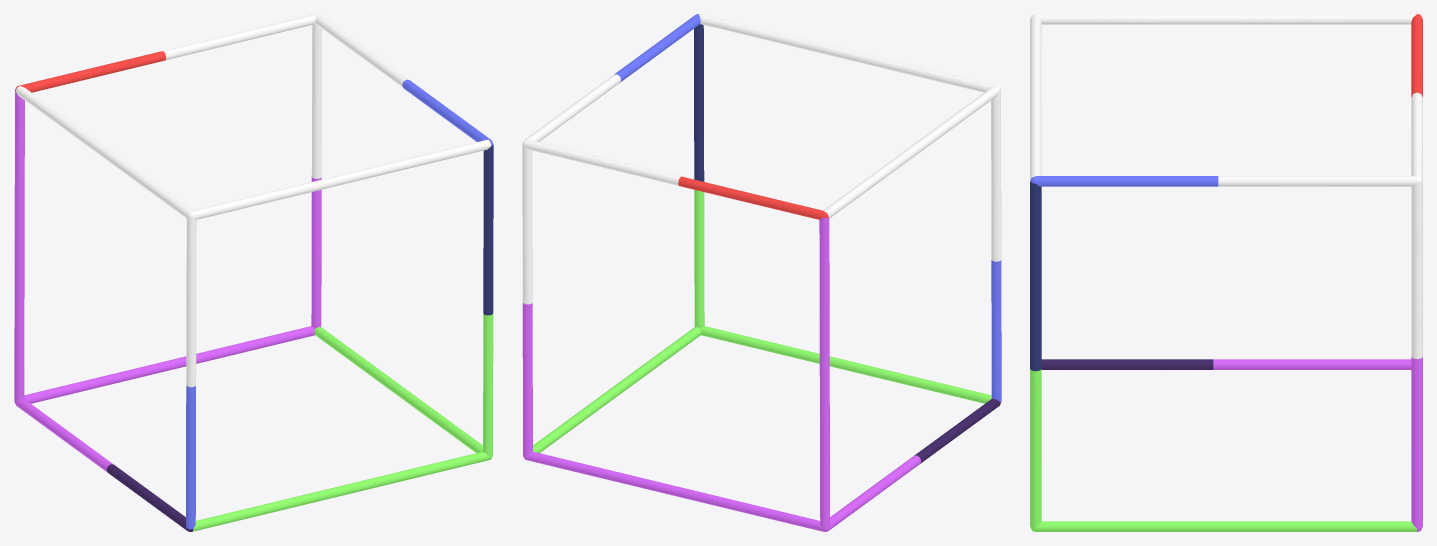
3 views of the same model, side by side, from view 1: azimuth 30°, elevation 25°; view 2: azimuth 150°, elevation 25°; view 3: azimuth 270°, elevation 25° (orthographic). The views are drawn at different scales.
Parts seen in each view (by area): view 1: Cube__NEW_1; view 2: Cube__NEW_1; view 3: Cube__NEW_1.
Boxes of the visible parts, x1,y1,x2,y2 form: Cube__NEW_1: (14, 14, 493, 531); Cube__NEW_1: (522, 14, 1001, 531); Cube__NEW_1: (1030, 14, 1422, 531).
Bounding box in the file's own units: 2.06 × 2.06 × 2.06.
1 material, 1 textured.
